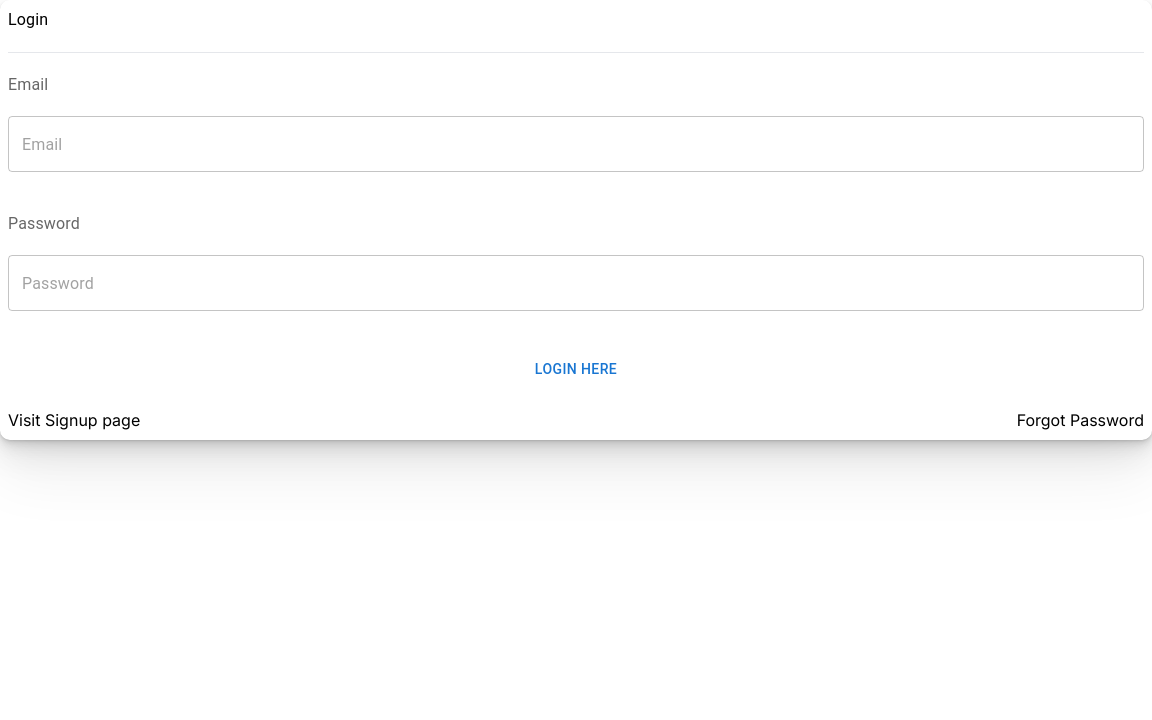
user sign in component › should displays validation error for invalid email format
Type "invalidemail" into the field with placeholder "Email". click: (576, 144)
box: [8,116,1144,172]
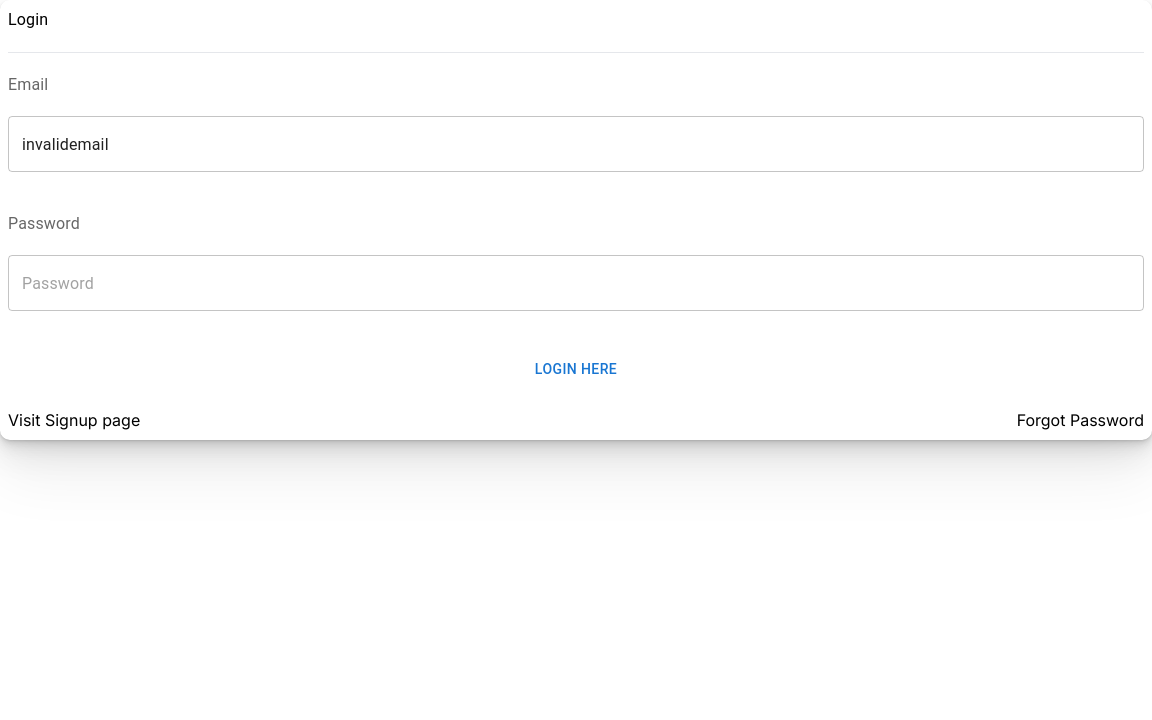
Type "password" into the password field with placeholder "Password". click: (576, 283)
box: [8,255,1144,311]
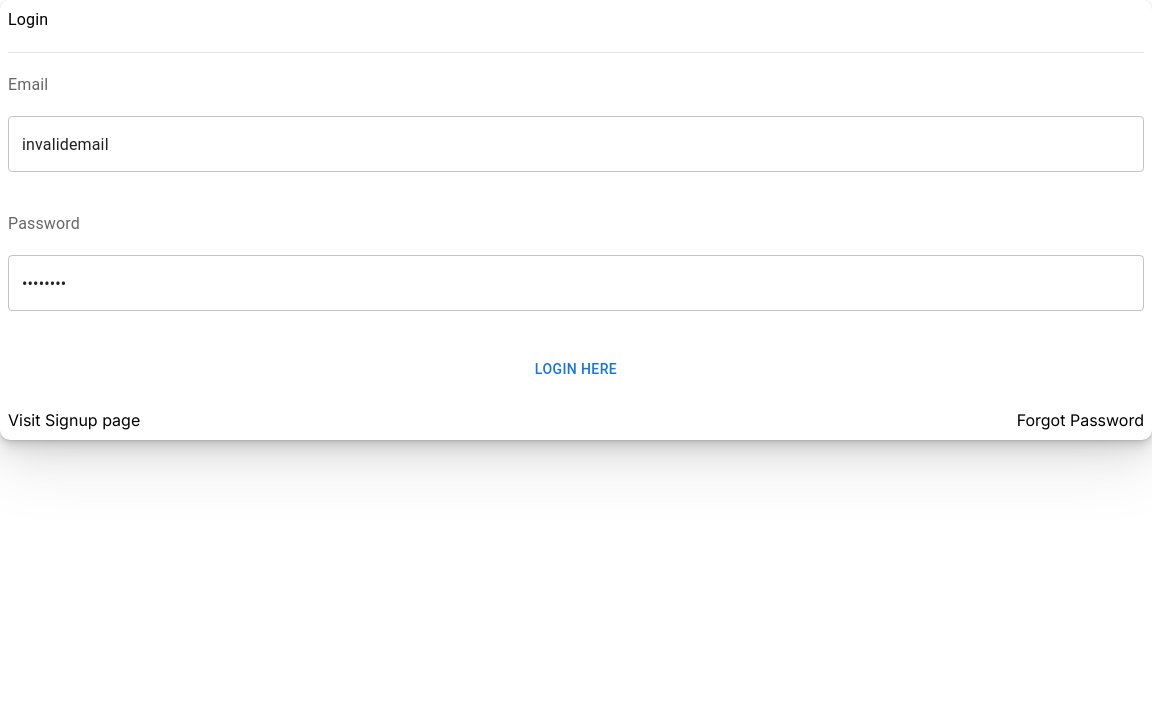
Click the button with test id "login-button". click: (576, 369)
box: [8,351,1144,388]
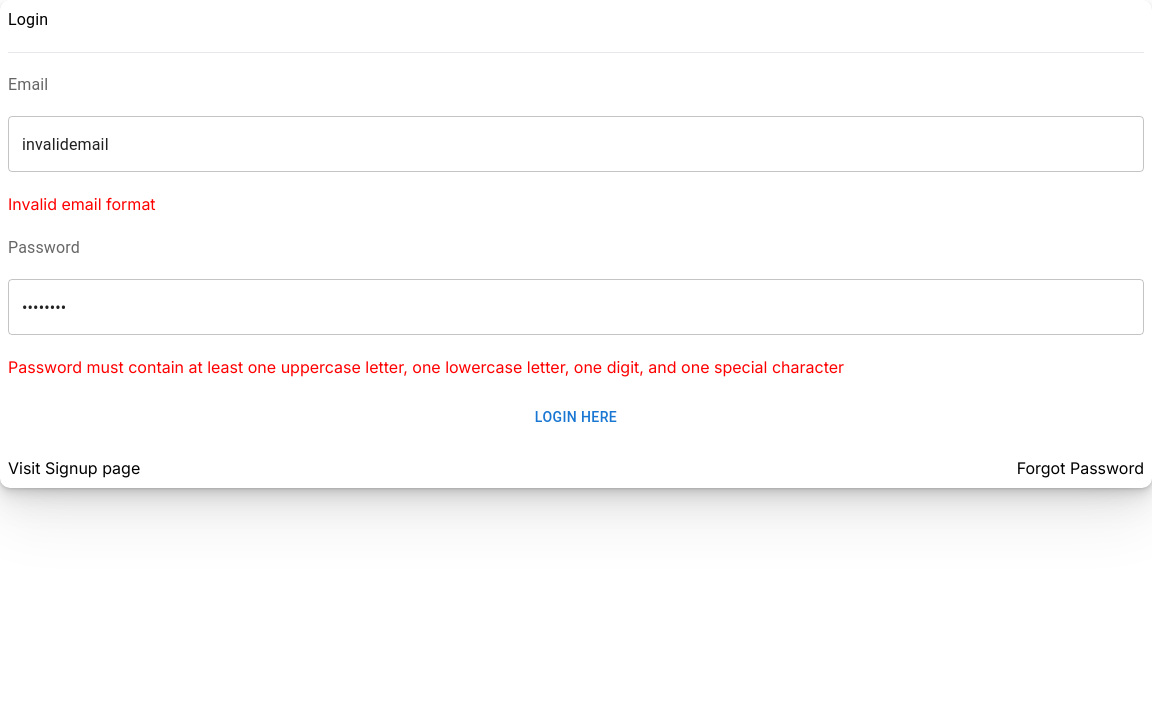
Expected: the text "Invalid email format" is shown, [8,194,156,214]
